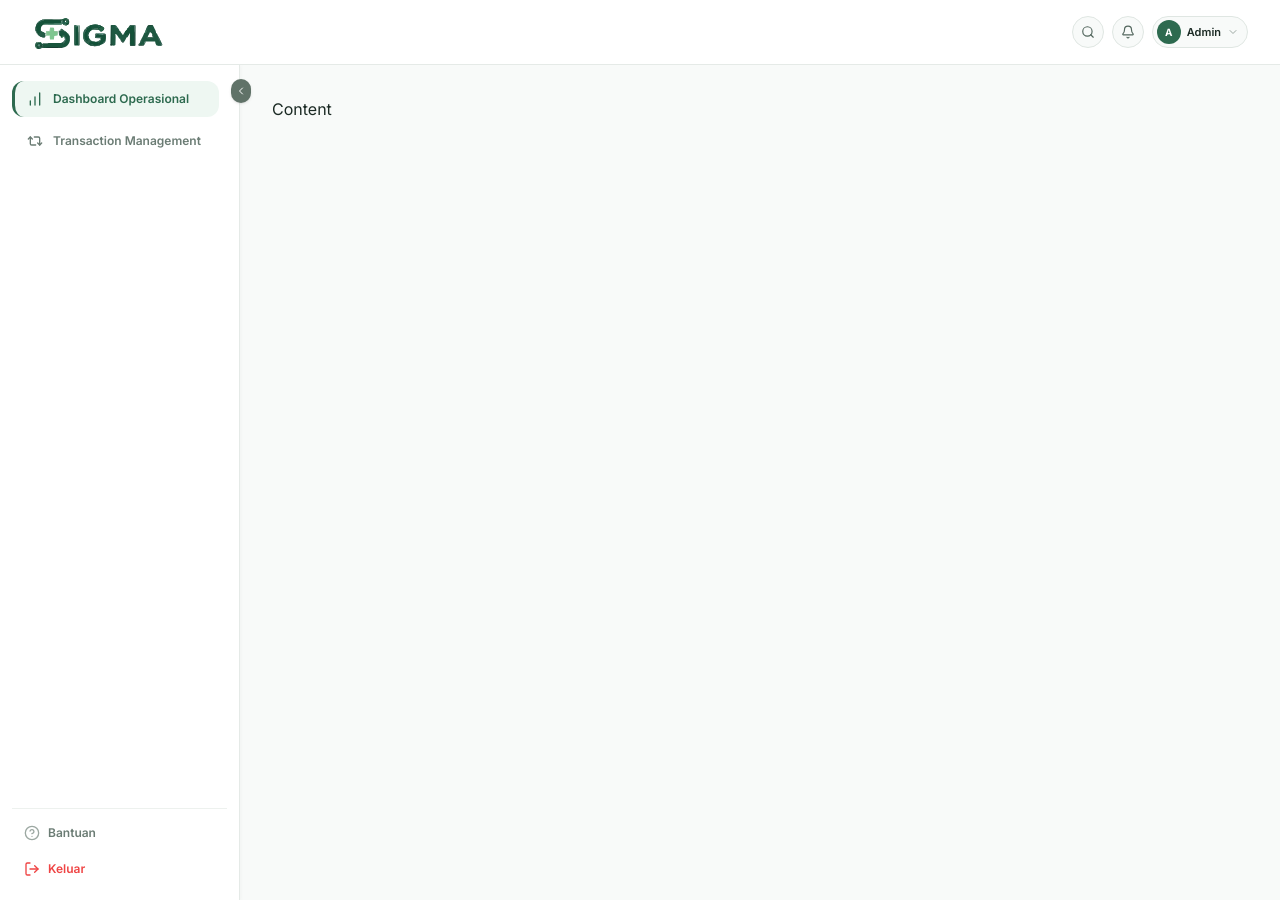
Scenario: AppShell Component (OpenBoxes Style) › opens operational notifications with live summary counts
Click the button named "Notifikasi" at (1128, 32), box [1112,16,1144,48]
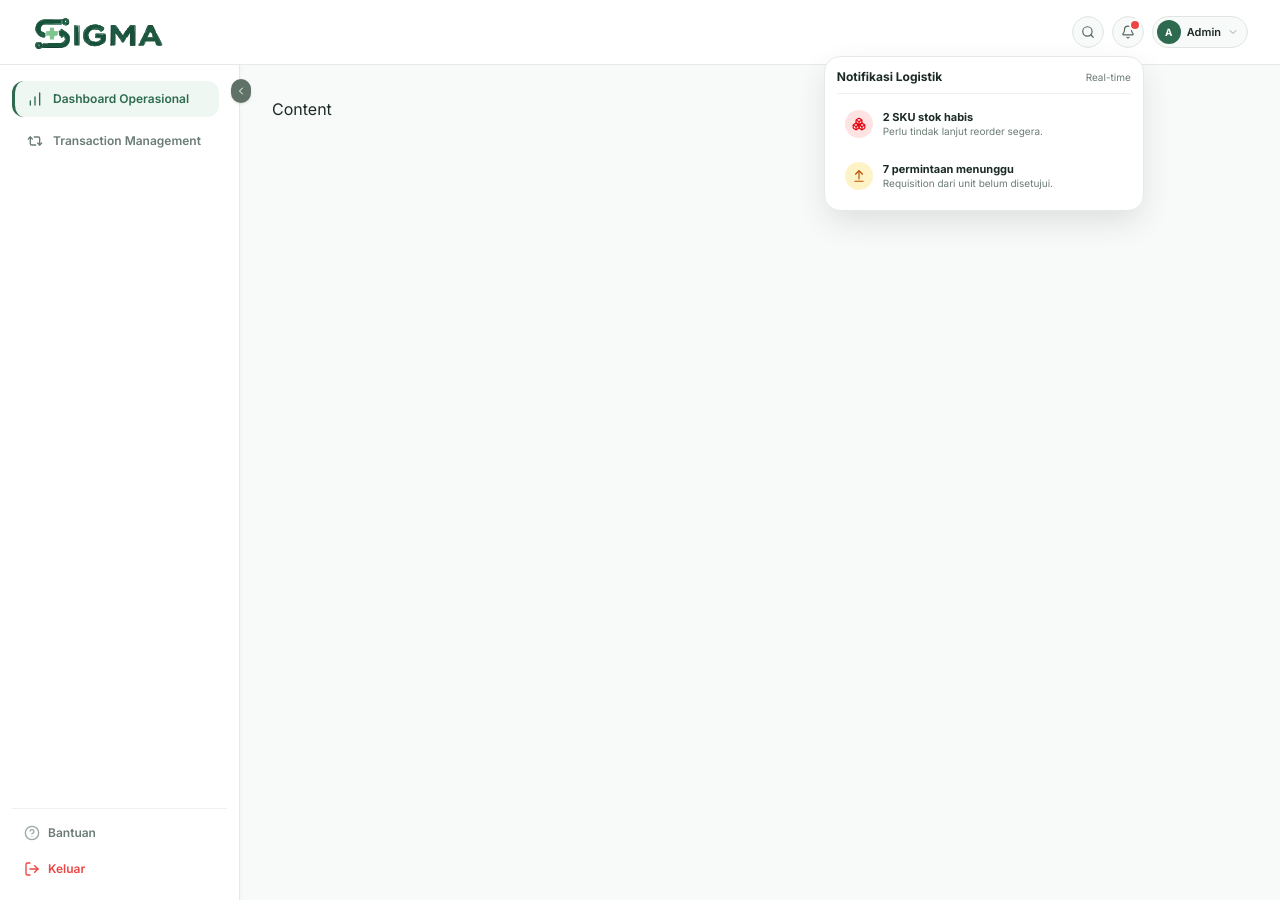
Check: the text "2 SKU stok habis" is shown, box [883,110,973,124]
Check: the text "7 permintaan menunggu" is shown, box [883,162,1014,176]
